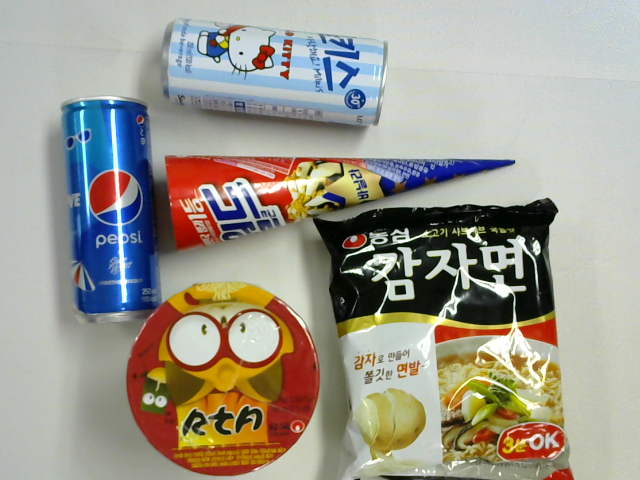Milkies_250ml: (161, 17, 387, 131)
Pepsi_Cola_Can_250ml: (55, 92, 168, 331)
Potato: (323, 198, 576, 480)
Raccoon: (126, 282, 325, 472)
World_Cone_Banila: (165, 147, 521, 248)
